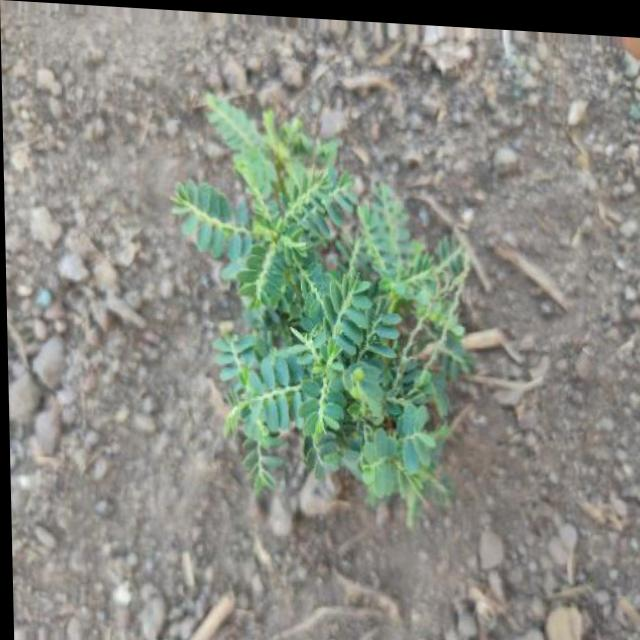weed: (164, 85, 480, 517)
